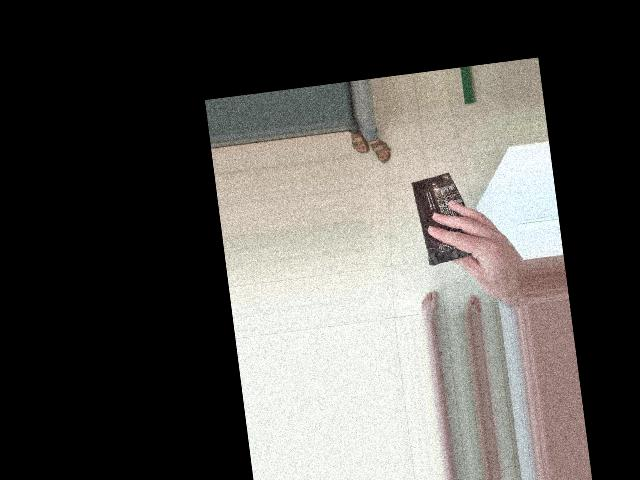chocolate: (408, 166, 490, 278)
